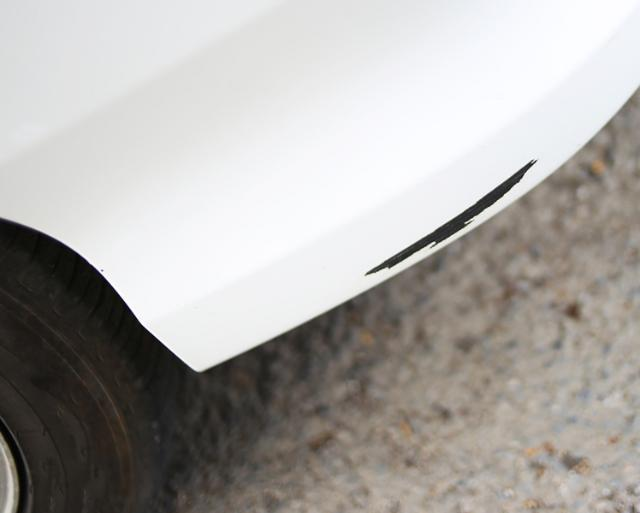Fender: (253, 119, 601, 319)
